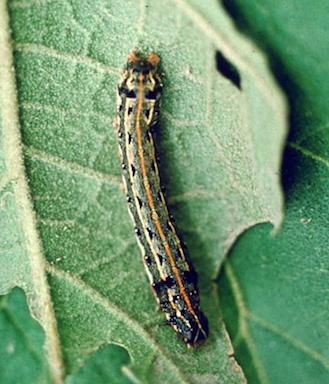Armyworm: (110, 47, 225, 359)
